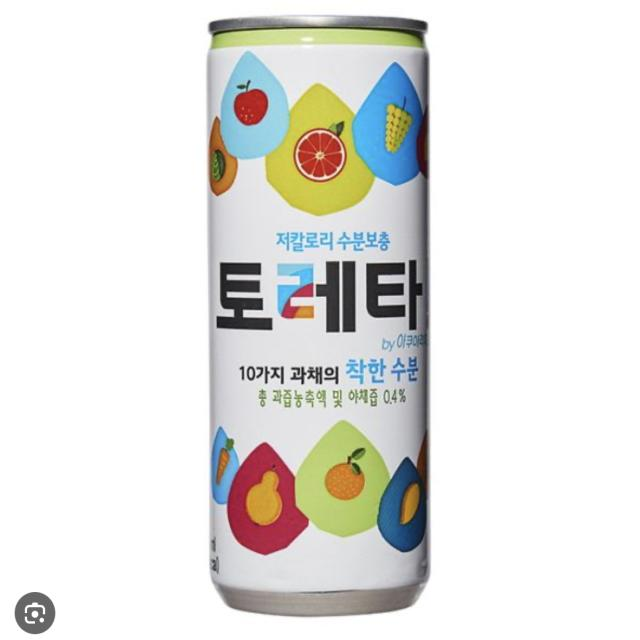recyclable: (172, 5, 466, 621)
